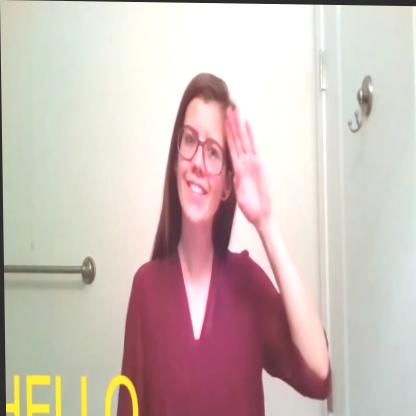Hello: (169, 46, 302, 316)
